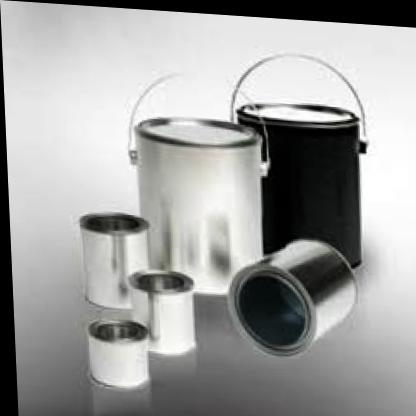Metal: (34, 33, 390, 416)
